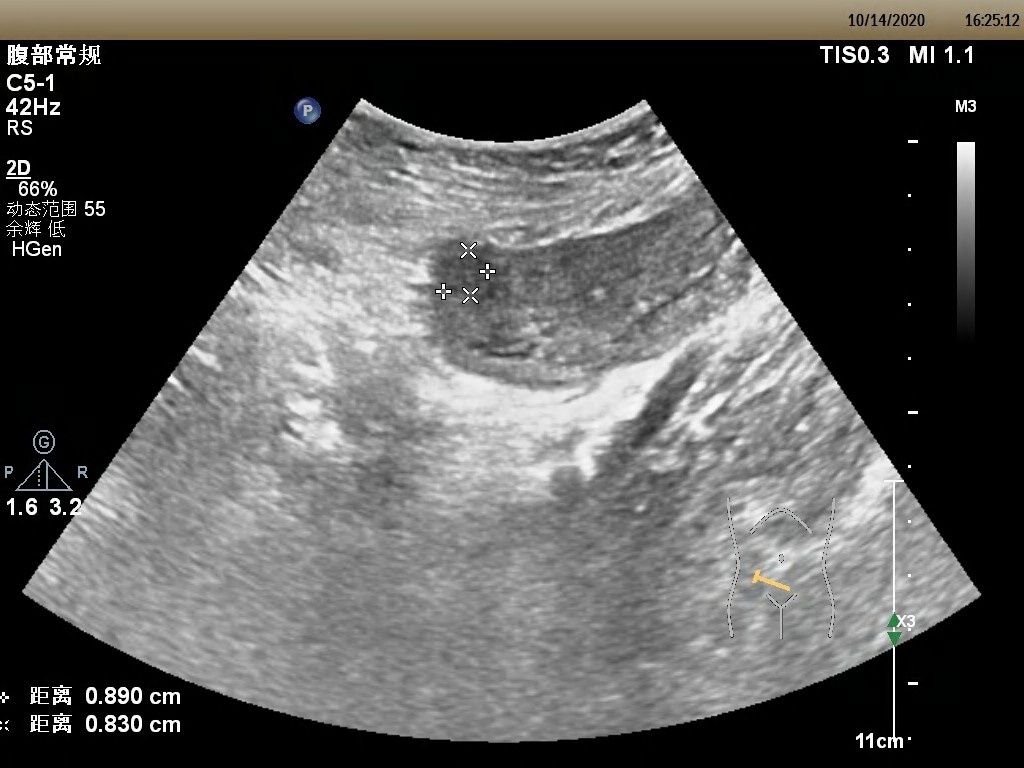肌瘤: (430, 245, 485, 291)
